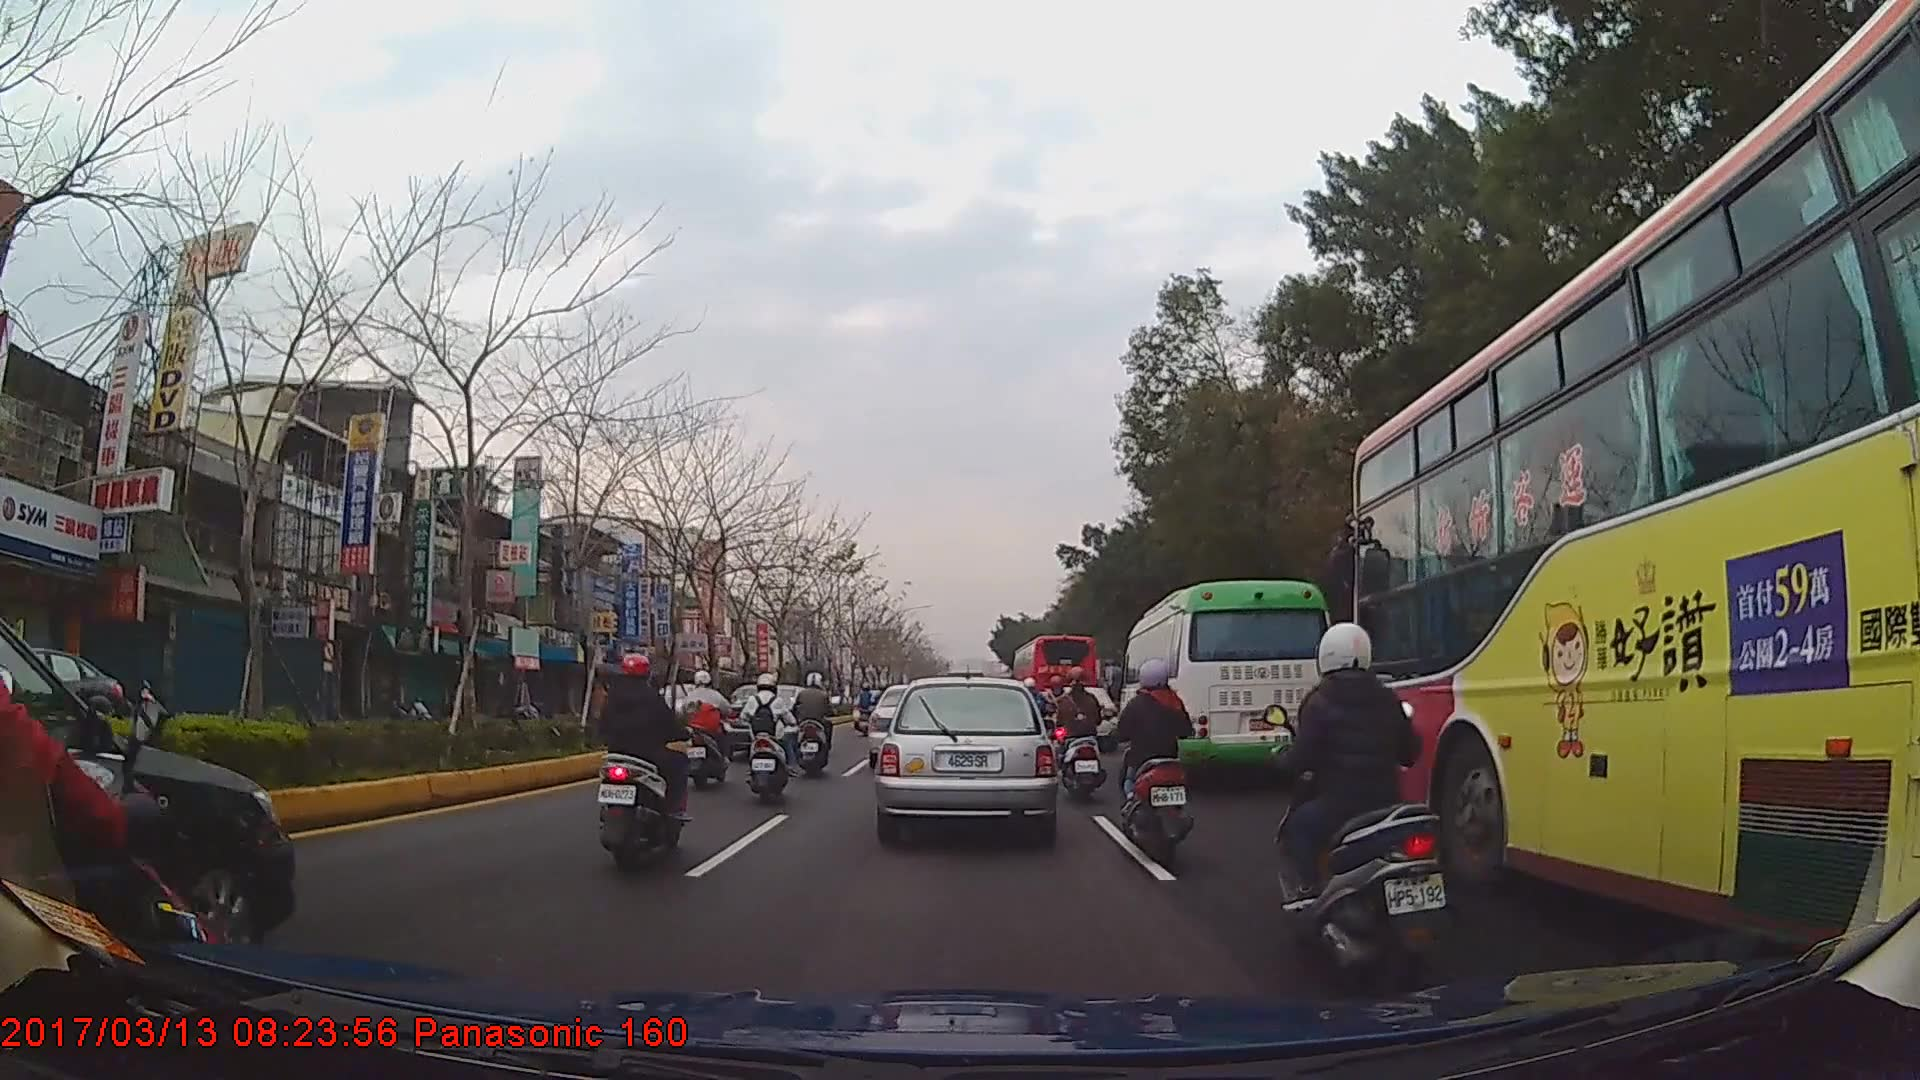rider: (1, 420, 222, 1080), (1273, 618, 1450, 983), (599, 652, 694, 870), (1113, 656, 1201, 868), (743, 673, 796, 802), (679, 668, 735, 790), (1053, 666, 1103, 792), (795, 671, 837, 775), (857, 682, 878, 721)
vehicle: (1350, 0, 1920, 1000), (0, 606, 296, 965), (1118, 578, 1339, 783), (874, 675, 1057, 840), (0, 638, 132, 728), (1013, 629, 1100, 733)
